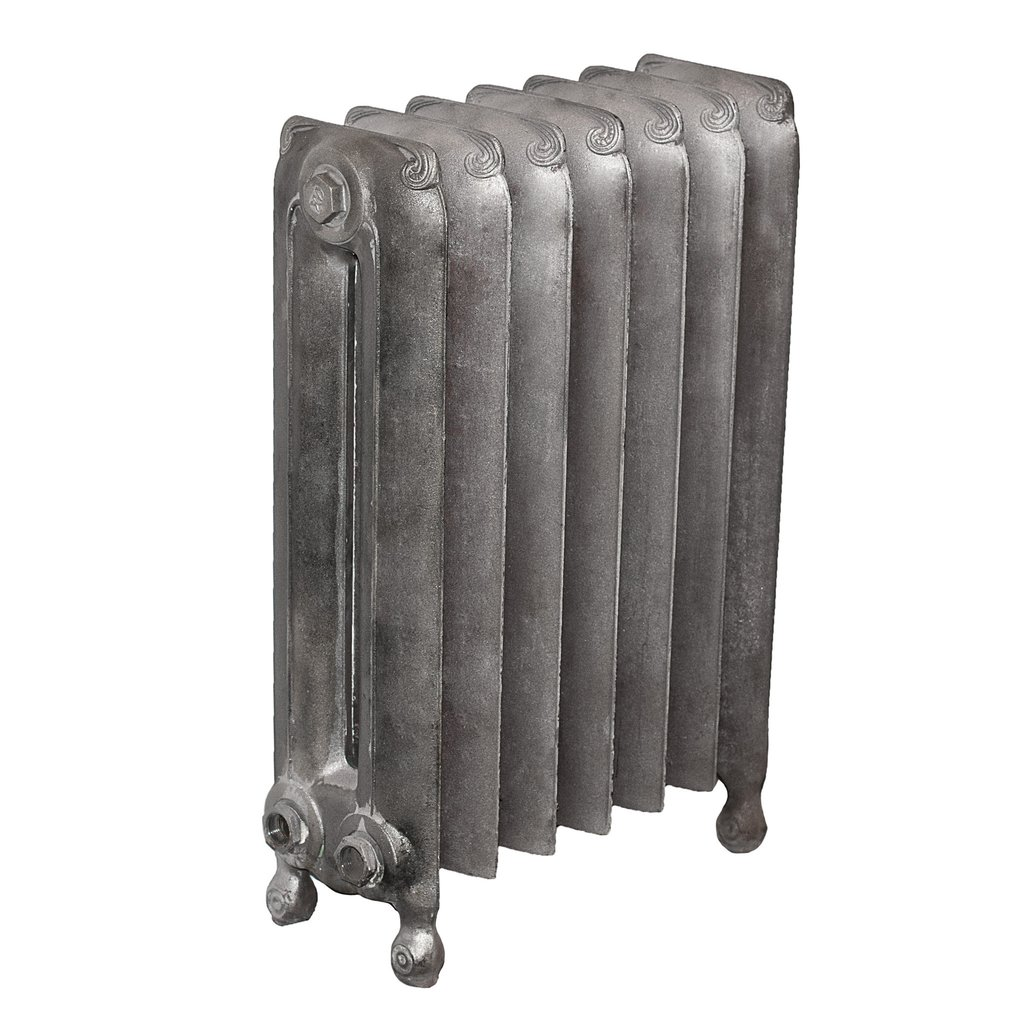Radiator: (259, 44, 808, 992)
